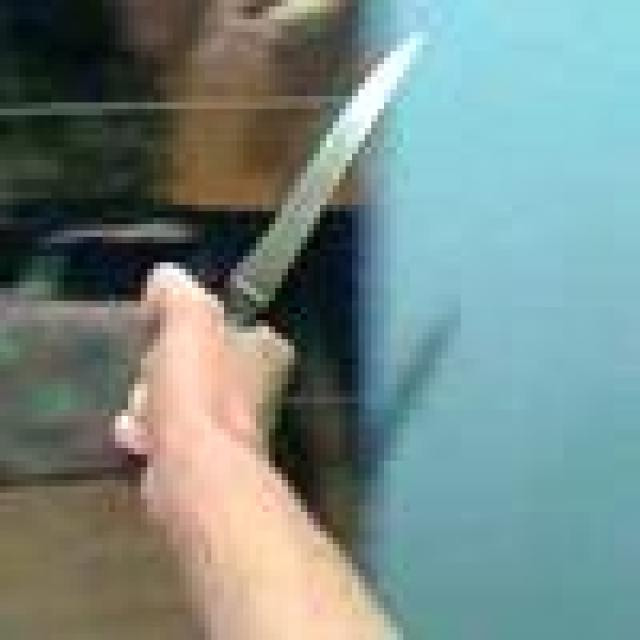Knife: (102, 32, 429, 474)
